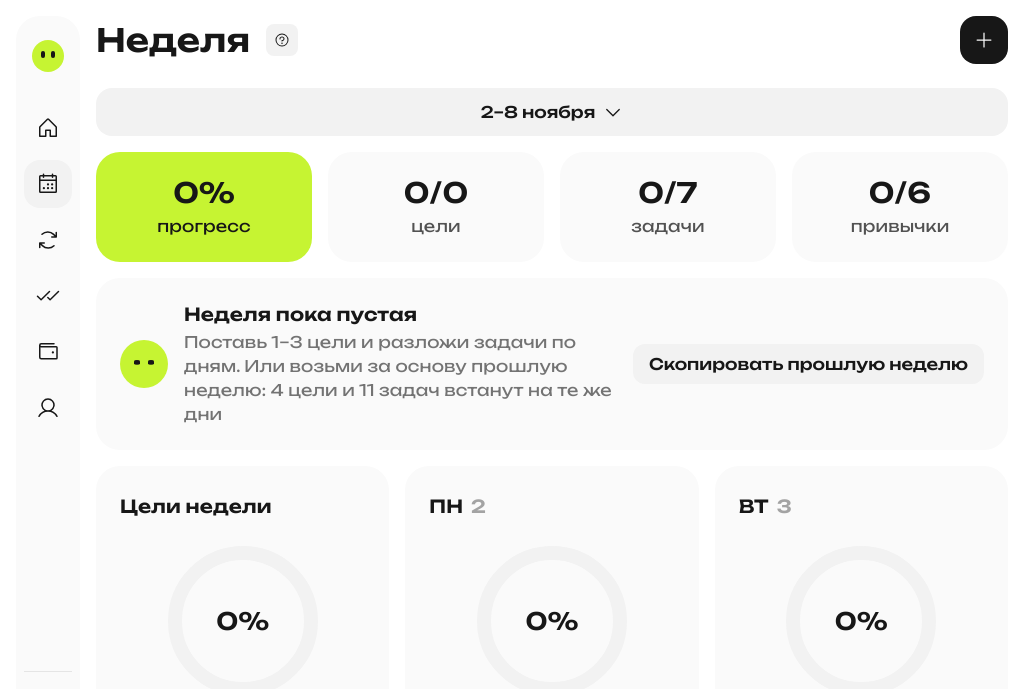
Scenario: трекер на демо-данных › Неделя: пустую неделю можно начать с копии прошлой
Expected: the heading "Неделя пока пустая" is shown, [184,303,417,325]
Click the button "Скопировать прошлую неделю" at [808, 364], box [633,344,984,384]
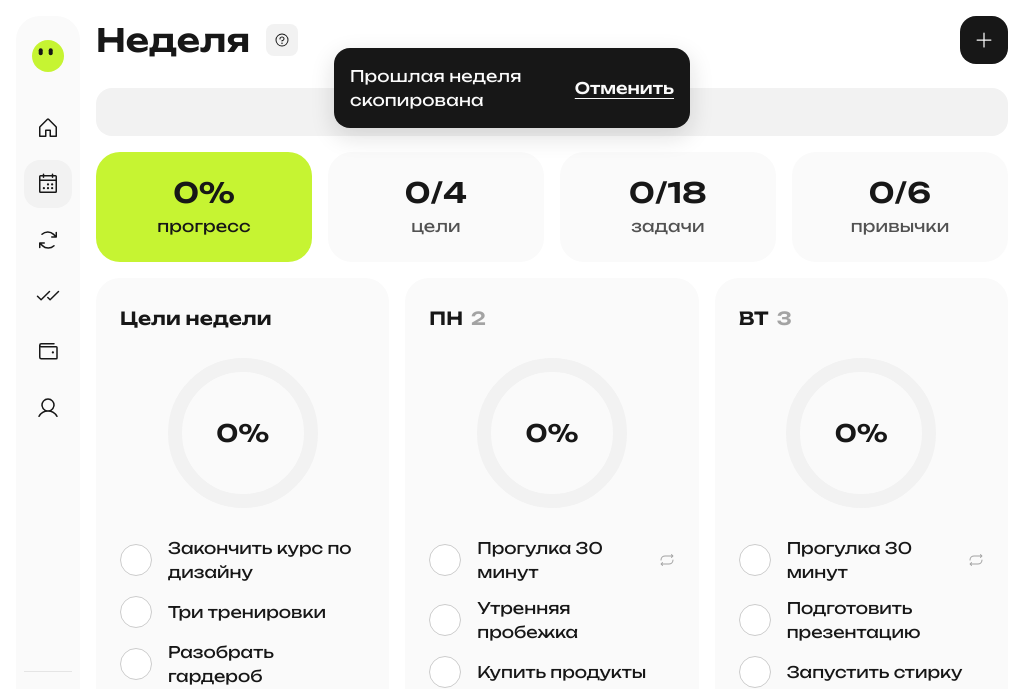
Now the text "Прошлая неделя скопирована" is shown, box [350,66,522,110]
Now the button "Три тренировки" is shown, box [168,600,365,624]
Now the heading "Неделя пока пустая" is gone
